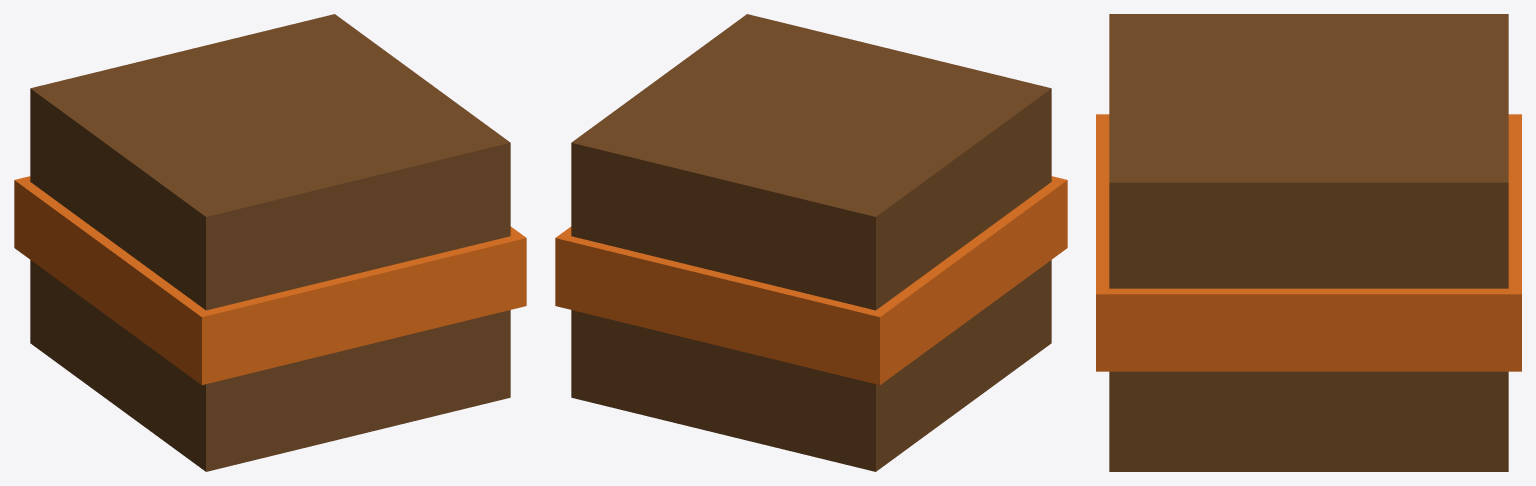
File: caixa.glb
The picture shows the model from 3 angles, left to right: view 1: azimuth 30°, elevation 25°; view 2: azimuth 150°, elevation 25°; view 3: azimuth 270°, elevation 25°; orthographic projection. The views are drawn at different scales.
Parts seen in each view (by area): view 1: caixa; view 2: caixa; view 3: caixa.
Part boxes in pixels (box(x1,y1,x2,y2)): caixa: box(14, 14, 526, 471); caixa: box(555, 14, 1067, 471); caixa: box(1096, 14, 1521, 471).
Bounding box in the file's own units: 0.8 × 0.6 × 0.8.
Materials: 1 (1 with a texture image).
